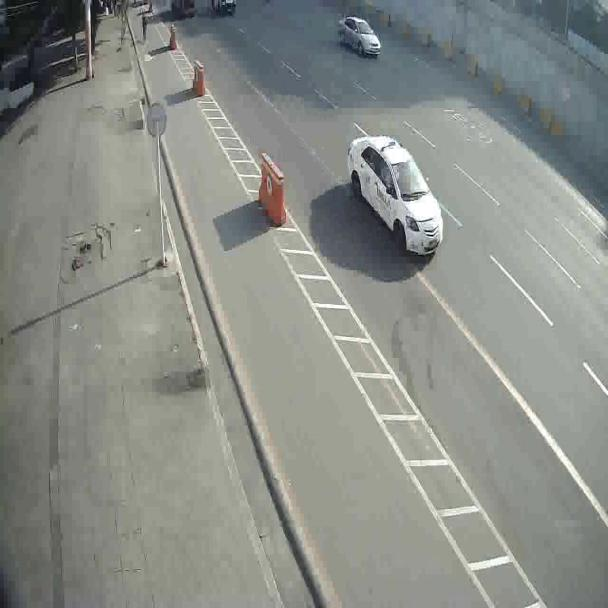vehicle: (346, 131, 444, 256), (338, 14, 382, 58)
